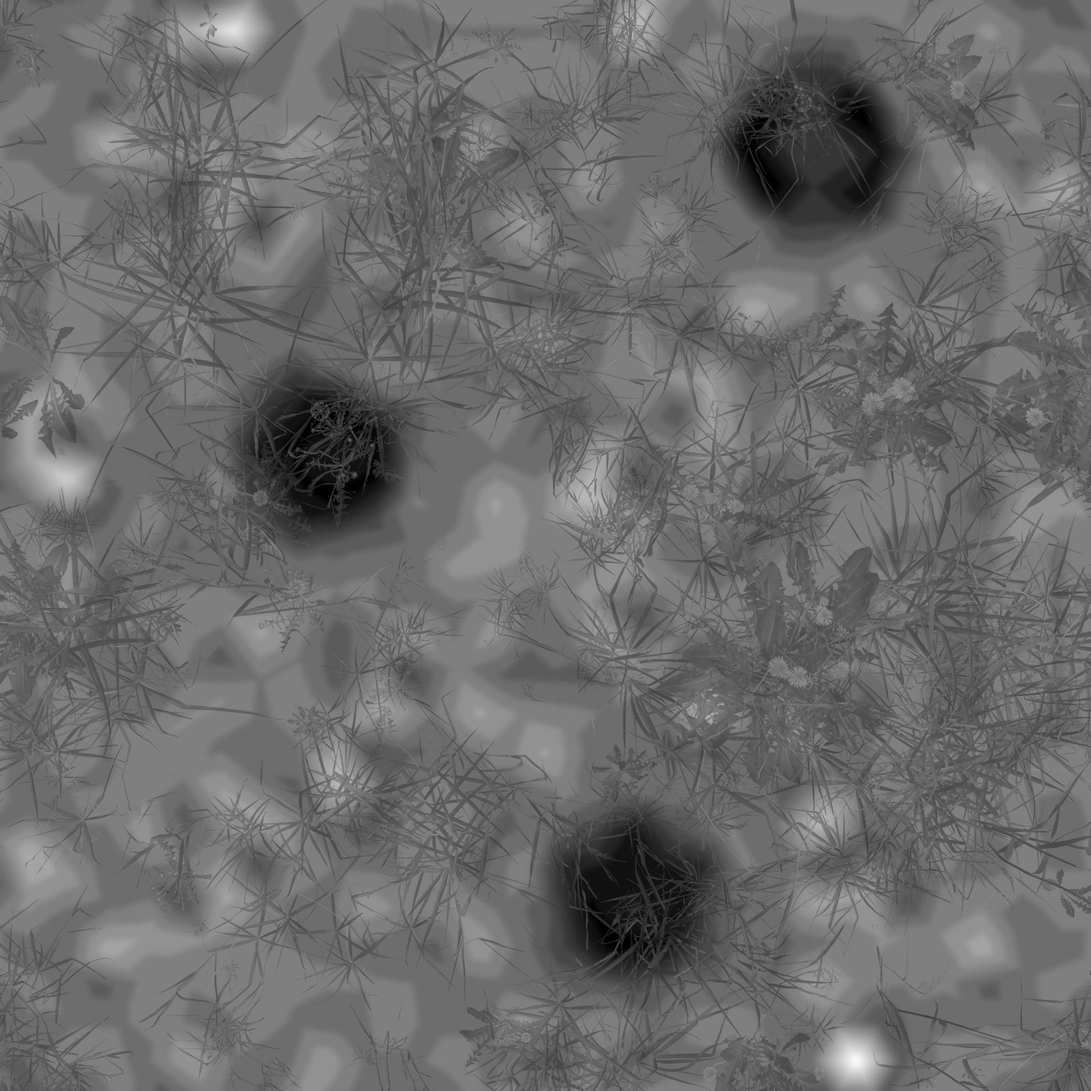landmine: (543, 807, 718, 973), (724, 72, 899, 236), (247, 395, 380, 531)
